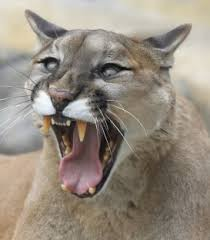Mountain Lion: (14, 6, 207, 214)
